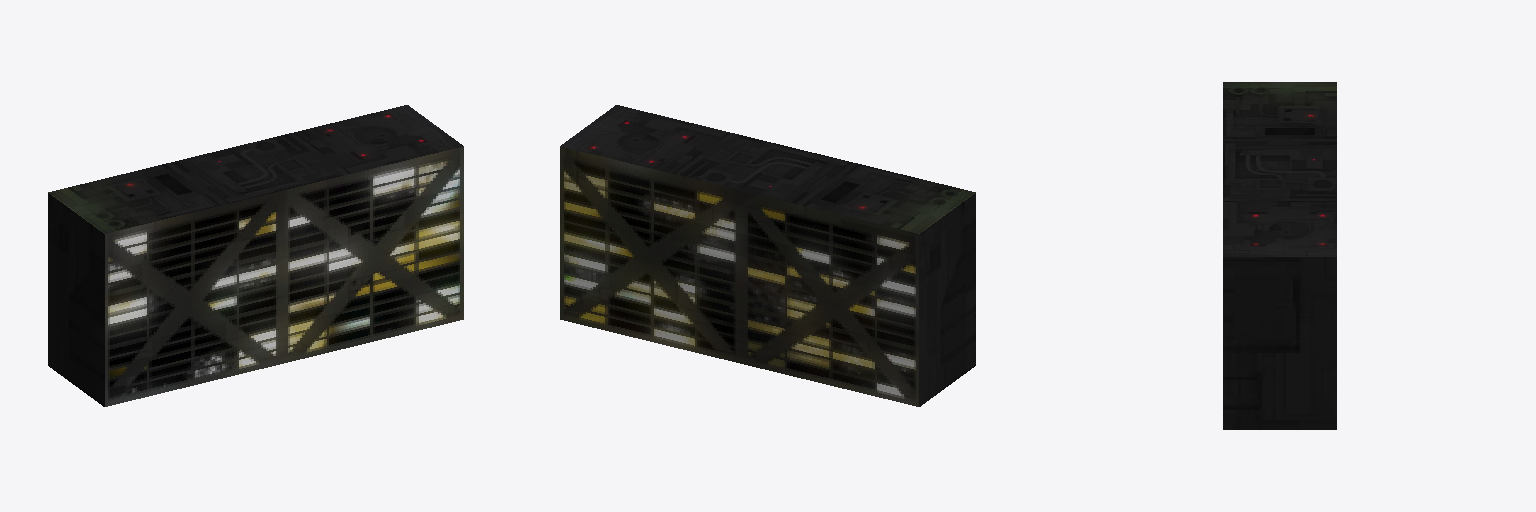
3 views of the same model, side by side, from view 1: azimuth 30°, elevation 25°; view 2: azimuth 150°, elevation 25°; view 3: azimuth 270°, elevation 25° (orthographic).
Parts seen in each view (by area): view 1: building_34; view 2: building_34; view 3: building_34.
Part boxes in pixels (x1,y1,x2,y2): building_34: (48, 105, 463, 406); building_34: (560, 105, 975, 406); building_34: (1223, 82, 1336, 429).
Bounding box in the file's own units: 108 × 49.83 × 29.59.
1 materials, 1 textured.